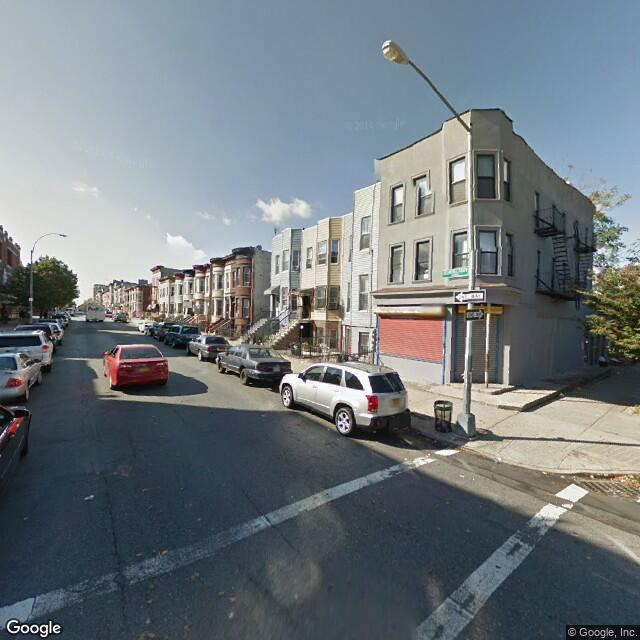litter: (492, 448, 508, 466), (613, 478, 639, 485), (538, 467, 549, 481), (586, 472, 595, 479), (557, 473, 565, 480), (85, 495, 96, 500), (634, 501, 640, 507)
